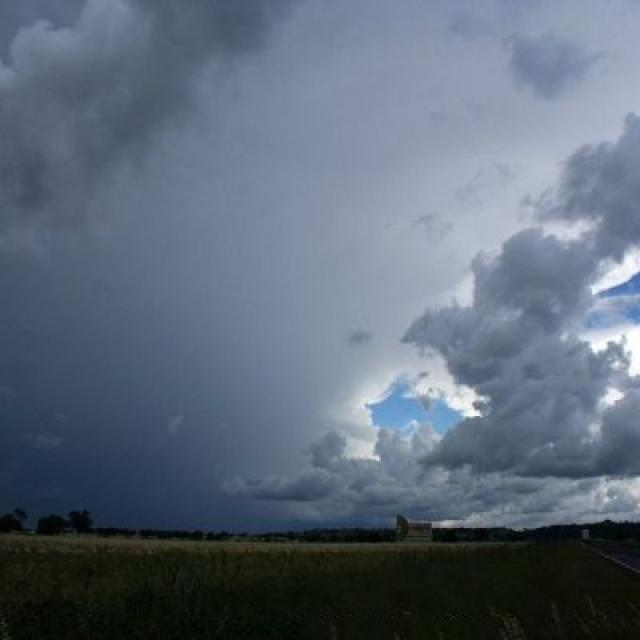Cu: (1, 84, 640, 448)
